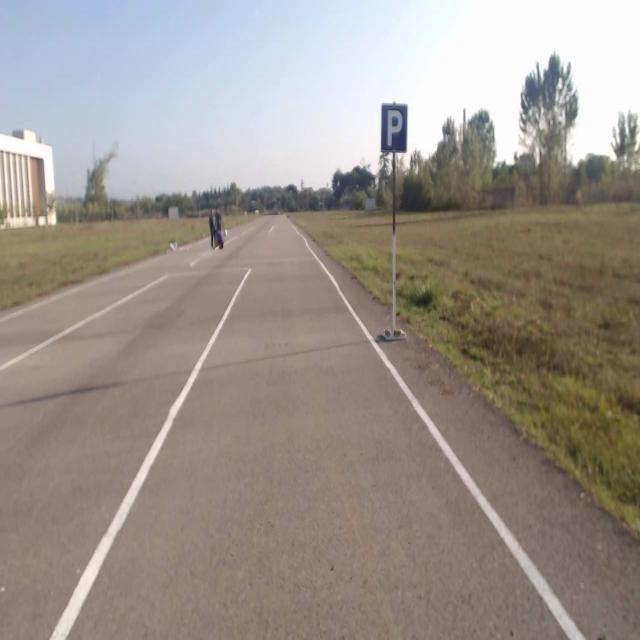park: (381, 104, 407, 153)
